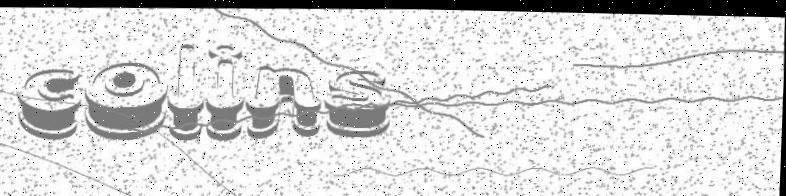c: (83, 57, 168, 137), (15, 63, 82, 141)
i: (202, 37, 246, 141)
l: (165, 40, 208, 142)
n: (239, 58, 326, 138)
s: (321, 63, 394, 137)
